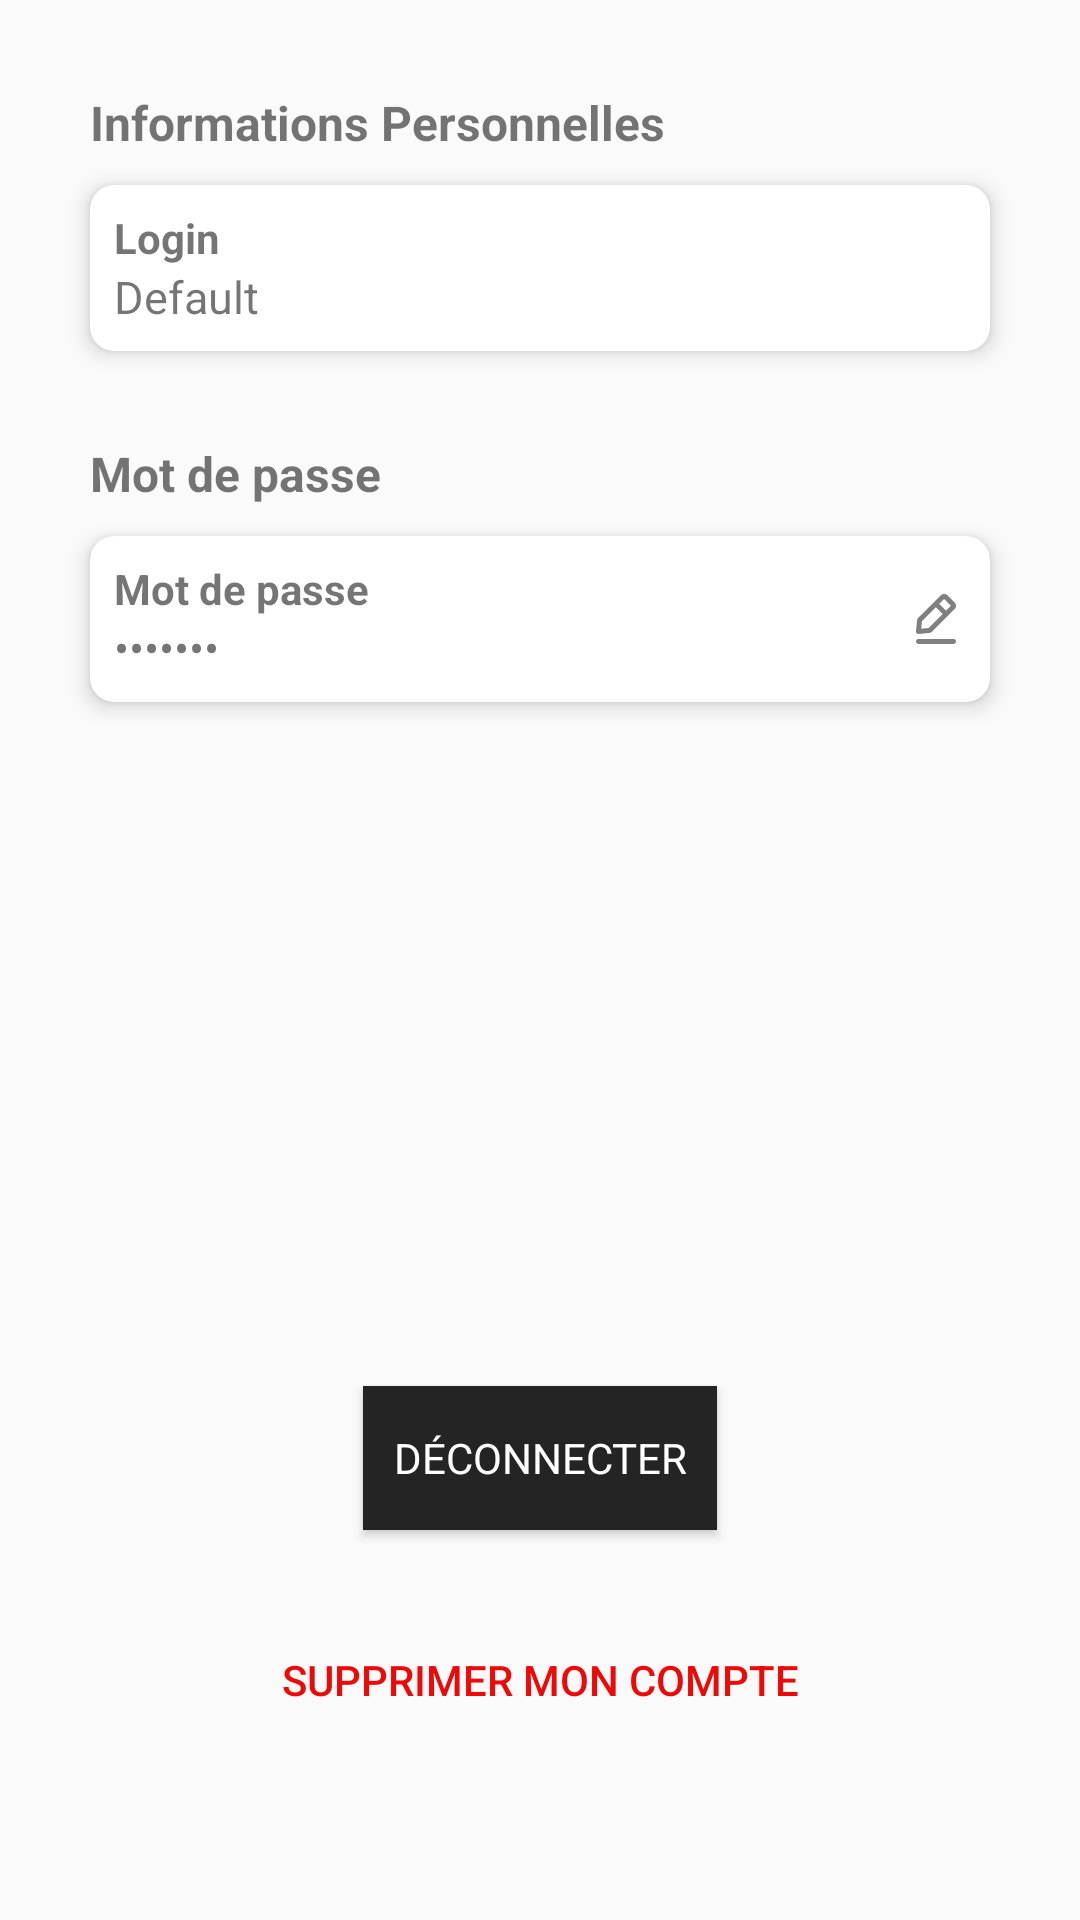

Locate icon controls on the screen. Image size 1080×1920, boxes as (left=x1, top=y1, right=x2, bottom=y2).
pen: (left=916, top=594, right=956, bottom=644)
